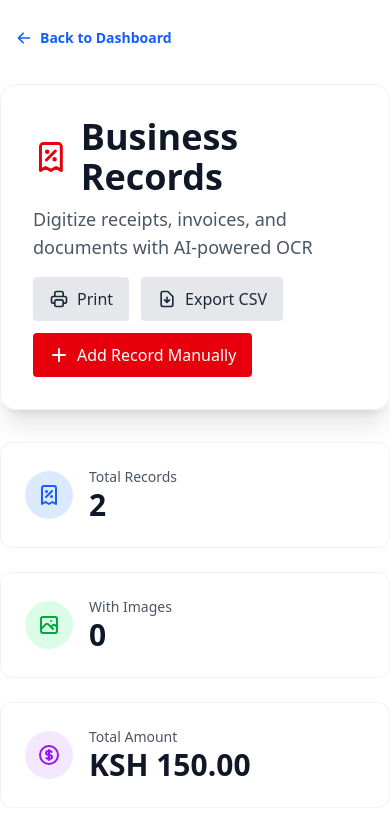
Scenario: RecordsPage Integration (OCR Workflow) › Offline Functionality › should queue record creation for sync when offline
Check: the text "Add Record Manually" is shown, box [49,343,236,367]
Click the button "Add Record Manually".
click(143, 355)  # box [33,333,252,377]
(page scrolled)
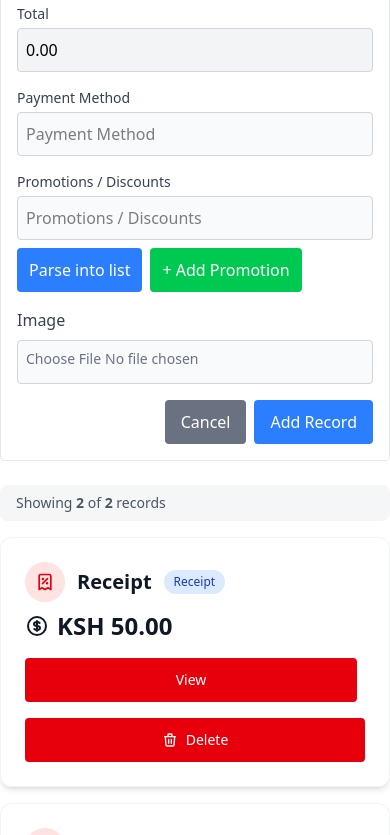
Check: the button "Cancel" is shown, box [165,400,246,444]
